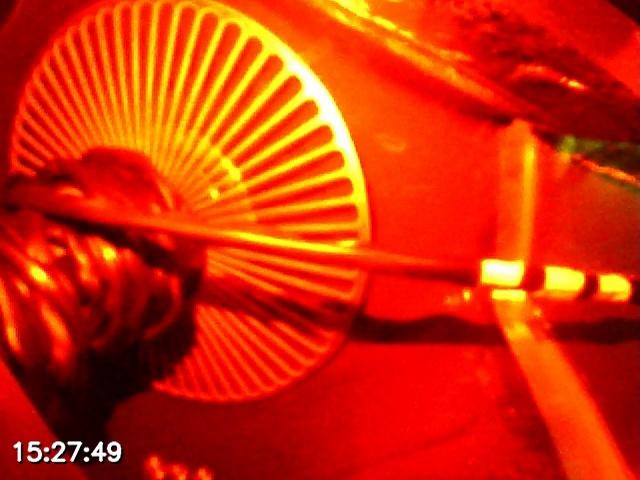white-dots: (478, 256, 632, 304)
